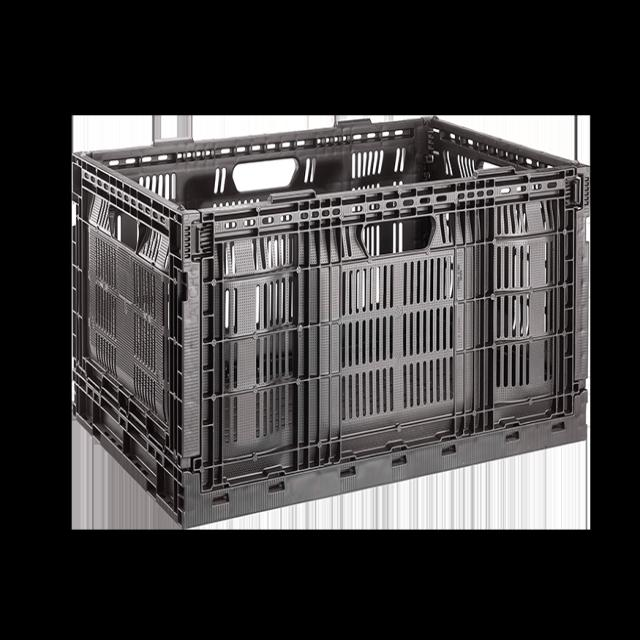basket: (73, 115, 591, 528)
